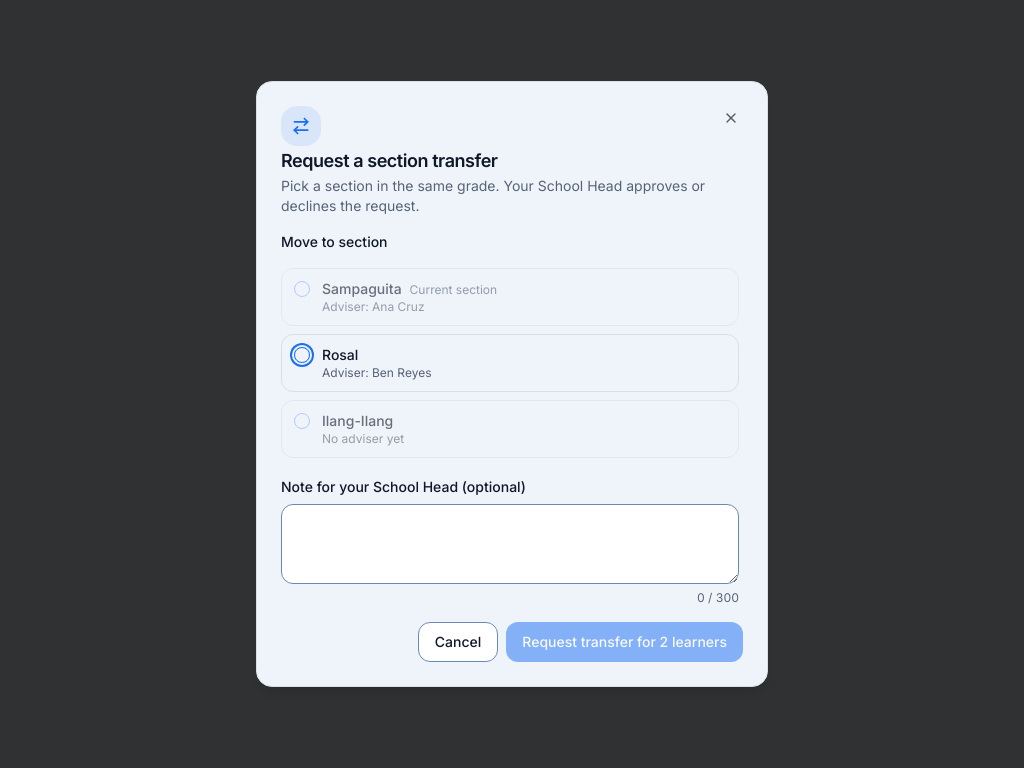
TransferLearnersDialog — request mode › labels the request, shows the note counter and hides School Head wording
Check: the heading "Request a section transfer" is shown, box top-left (281, 150), bottom-right (498, 171)
Check: the text "No adviser yet" is shown, box top-left (322, 431), bottom-right (404, 446)
Type "Moved house" into the text box labelled "Note for your School Head (optional)" at (510, 544), box top-left (281, 504), bottom-right (739, 584)
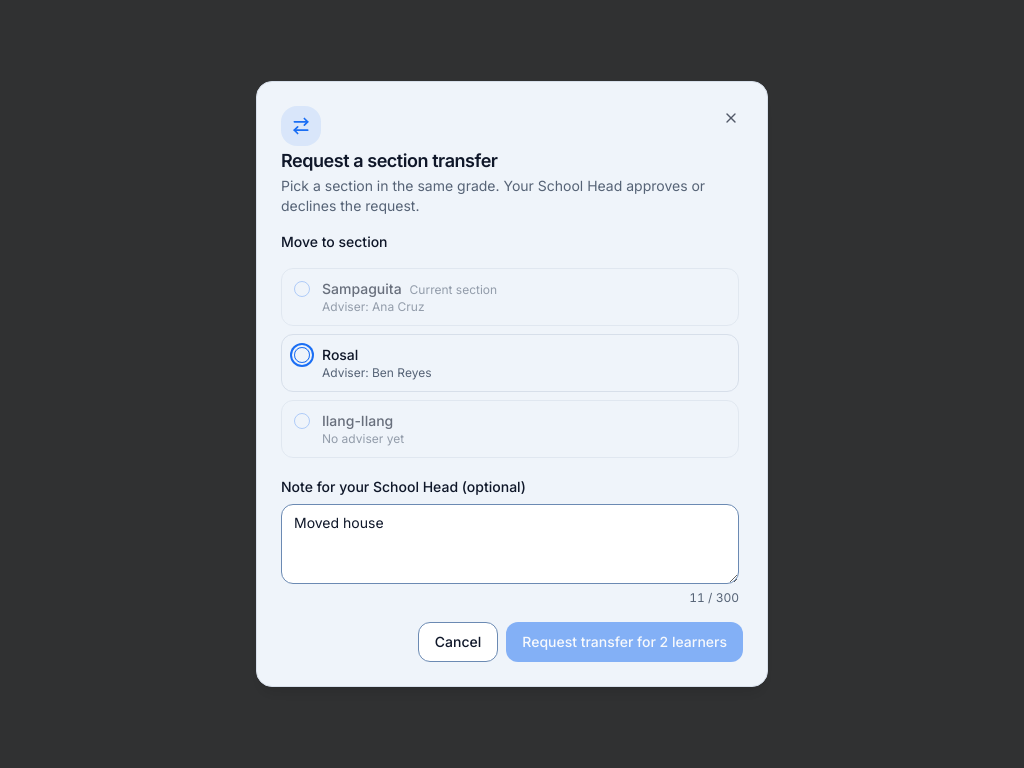
Check: the text "11 / 300" is shown, box top-left (689, 590), bottom-right (739, 605)
Click the radio button named "Rosal" next to "Rosal" at (302, 355), box top-left (294, 347), bottom-right (310, 363)
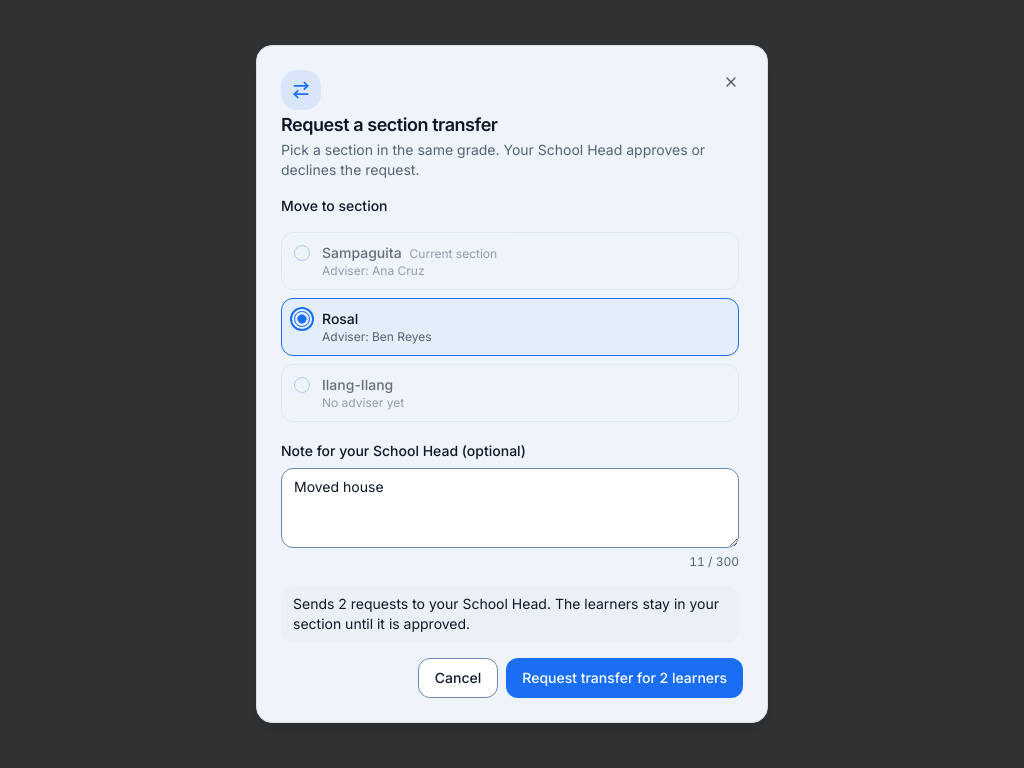
Check: the button "Request transfer for 2 learners" is enabled, box top-left (506, 658), bottom-right (743, 698)
Check: the text "Sends 2 requests to your School Head. The learners stay in your section until it is approved." is shown, box top-left (293, 595), bottom-right (719, 632)
